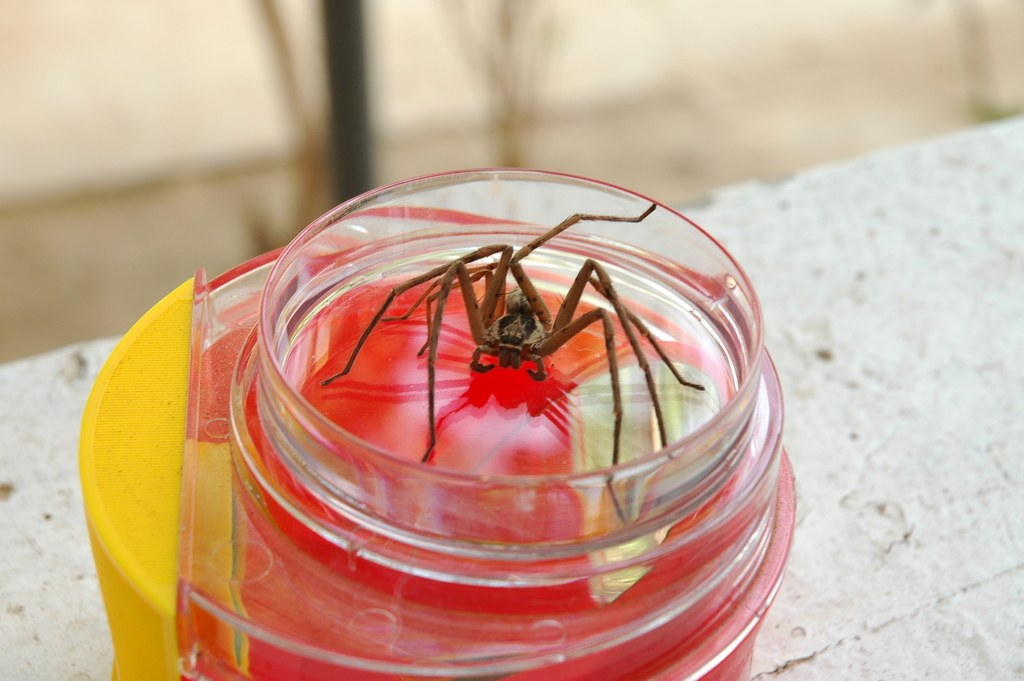insect: (278, 258, 742, 542), (315, 199, 708, 529), (319, 202, 706, 529)
